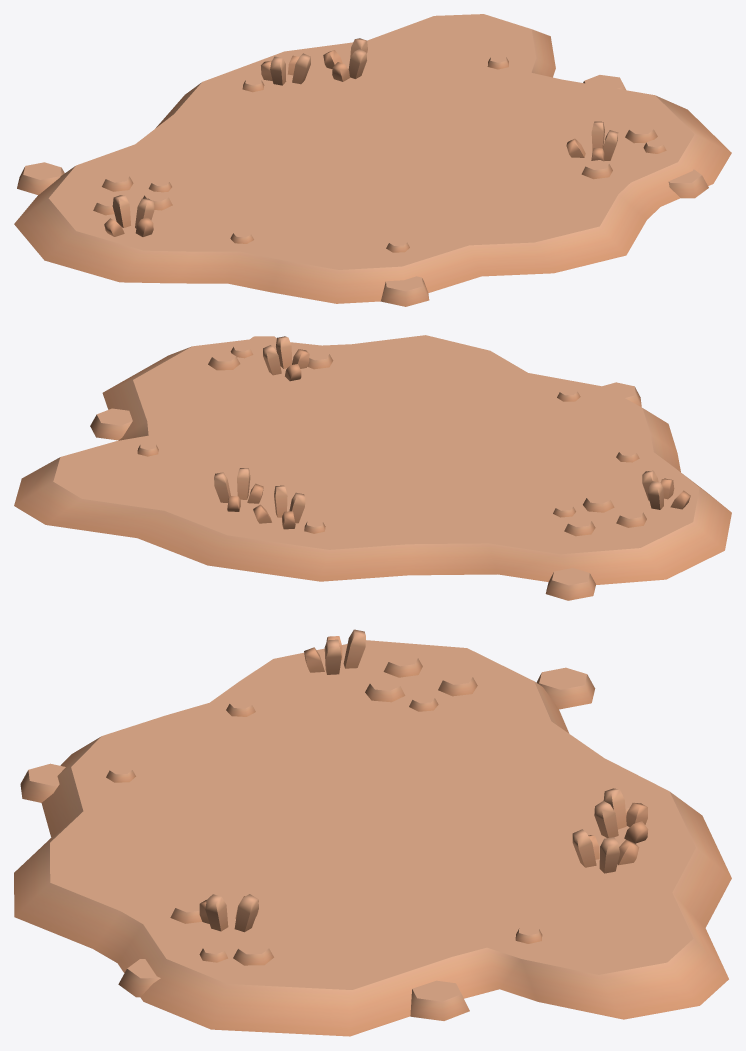
File: patch-sand-foliage.glb
The picture shows the model from 3 angles, top to bottom: view 1: azimuth 30°, elevation 25°; view 2: azimuth 150°, elevation 25°; view 3: azimuth 270°, elevation 25°; orthographic projection. The views are drawn at different scales.
Visible parts, largest first — view 1: patch-sand-foliage; view 2: patch-sand-foliage; view 3: patch-sand-foliage.
Part boxes in pixels (box(x1,y1,x2,y2)): patch-sand-foliage: box(14, 14, 731, 306); patch-sand-foliage: box(14, 335, 731, 600); patch-sand-foliage: box(14, 629, 731, 1036).
Bounding box in the file's own units: 7.74 × 0.5638 × 6.04.
1 material, 1 textured.
